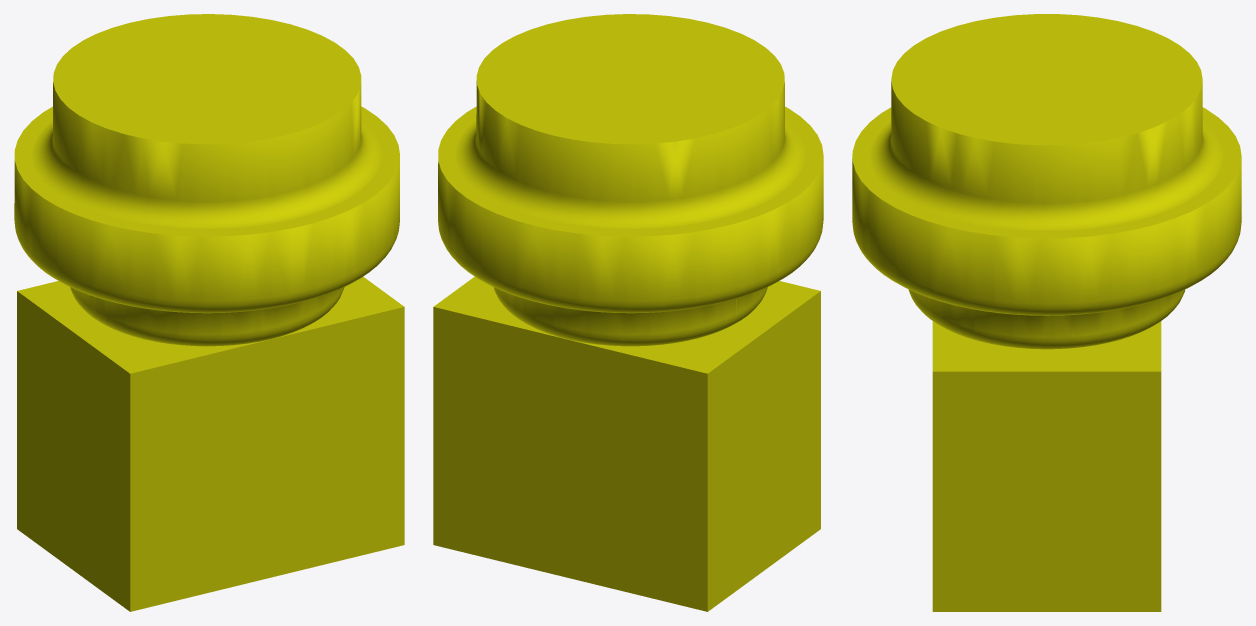
Rendered from L7Gripper.dae.
The picture shows the model from 3 angles, left to right: view 1: azimuth 30°, elevation 25°; view 2: azimuth 150°, elevation 25°; view 3: azimuth 270°, elevation 25°; orthographic projection.
Visible parts, largest first — view 1: Actor0, schunkGrippe; view 2: Actor0, schunkGrippe; view 3: Actor0, schunkGrippe.
Boxes of the visible parts, x1=… form: Actor0: x1=14, y1=14, x2=399, y2=346; schunkGrippe: x1=17, y1=276, x2=404, y2=611; Actor0: x1=438, y1=14, x2=823, y2=346; schunkGrippe: x1=433, y1=276, x2=820, y2=611; Actor0: x1=852, y1=14, x2=1241, y2=349; schunkGrippe: x1=932, y1=321, x2=1161, y2=611.
Size of the model in its own units: 0.075 by 0.075 by 0.0984.
